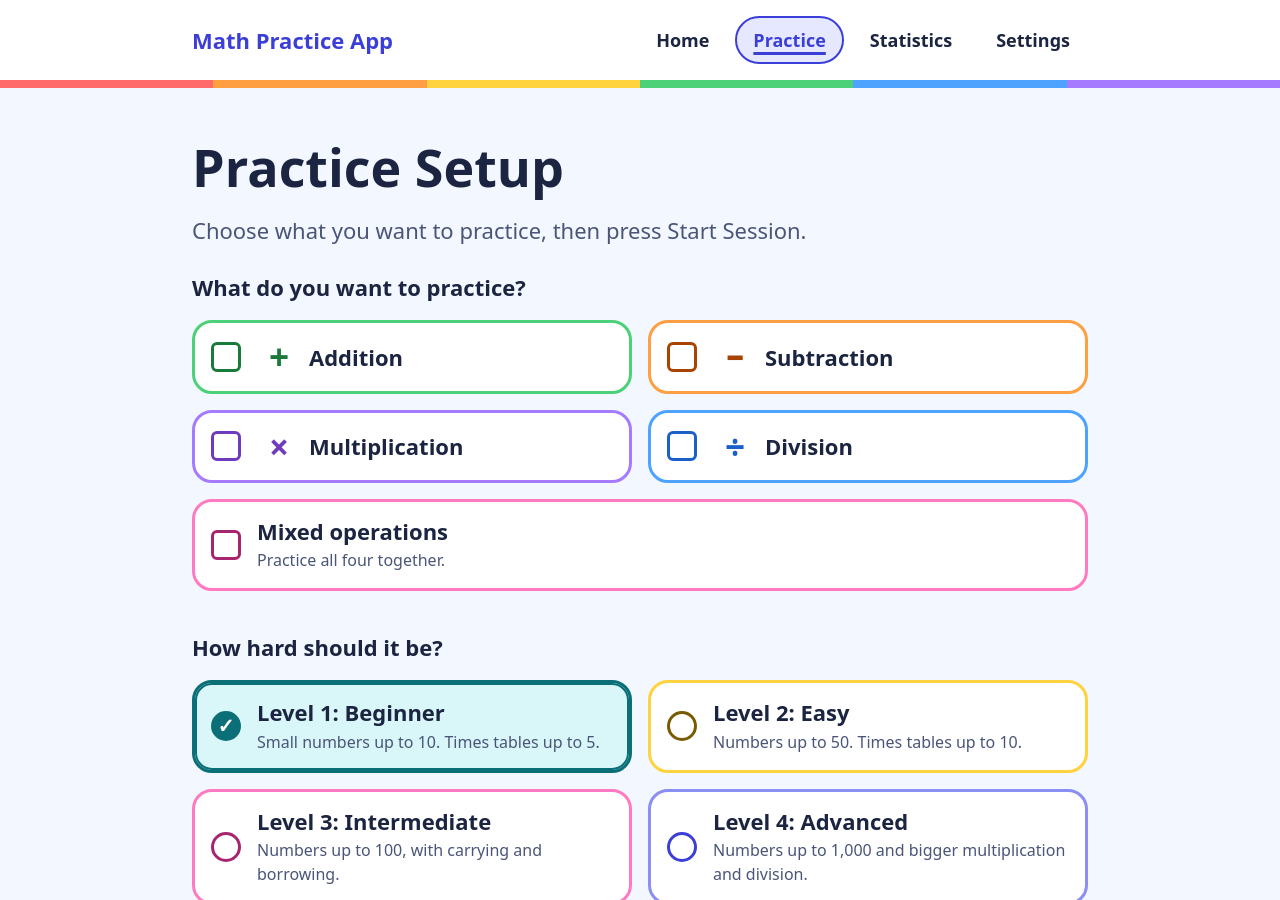
PracticeSetupPage › Start Session button › is disabled again if the last operation is deselected
Click the checkbox labelled "Addition" at (412, 357), box [192,320,632,394]
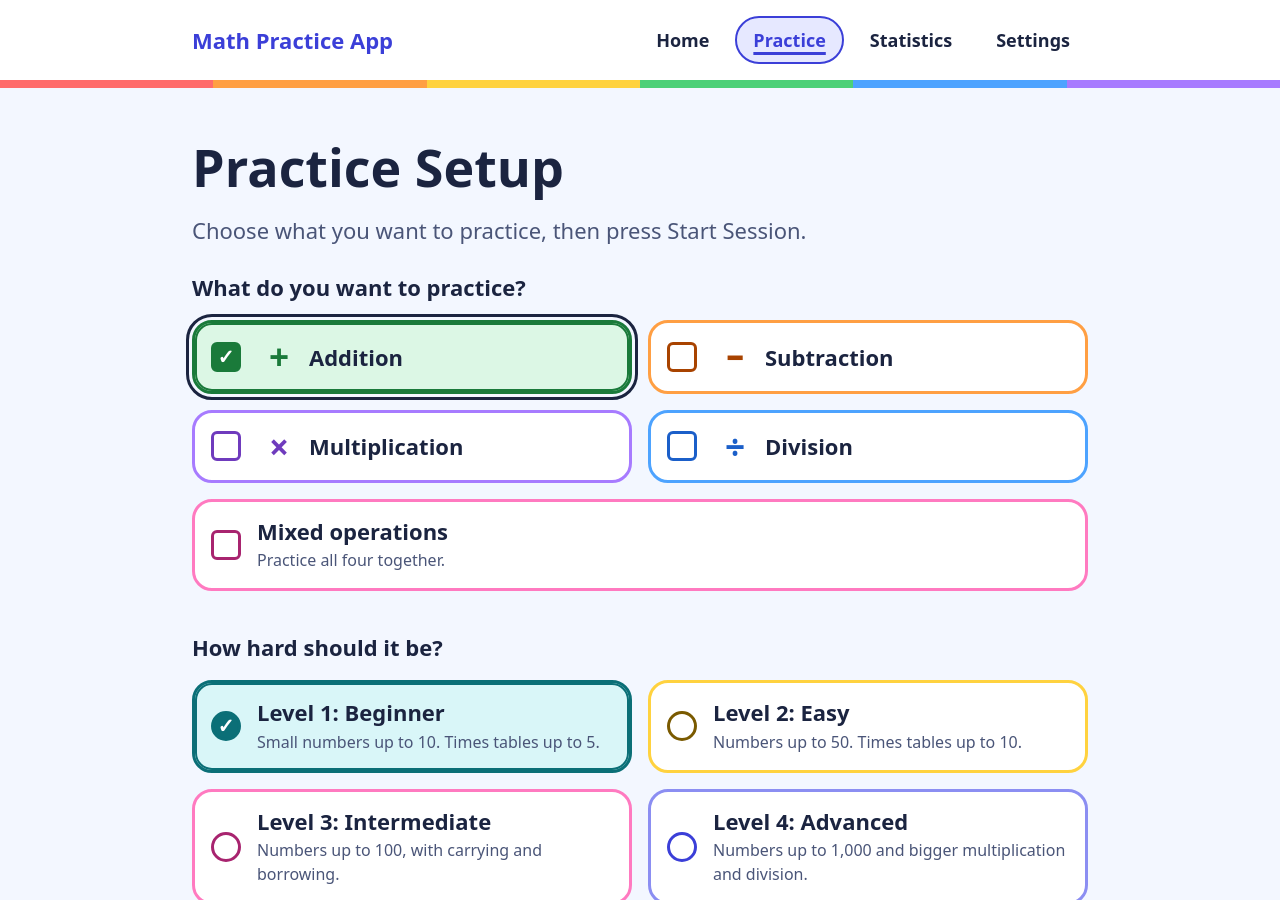
Click the radio button labelled "Level 1: Beginner" at (412, 726), box [192,680,632,773]
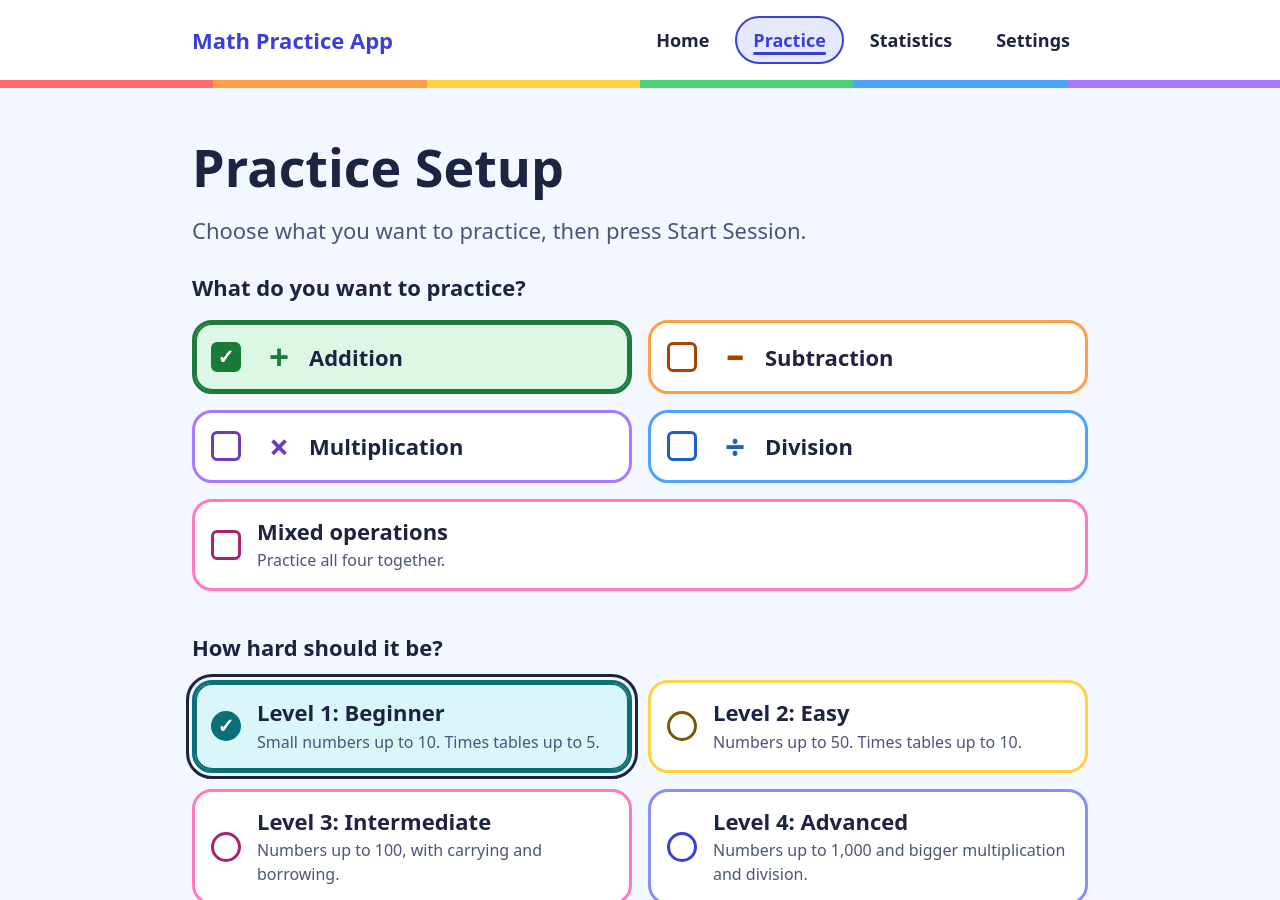
Click the checkbox labelled "Addition" at (412, 357), box [192,320,632,394]
(page scrolled)
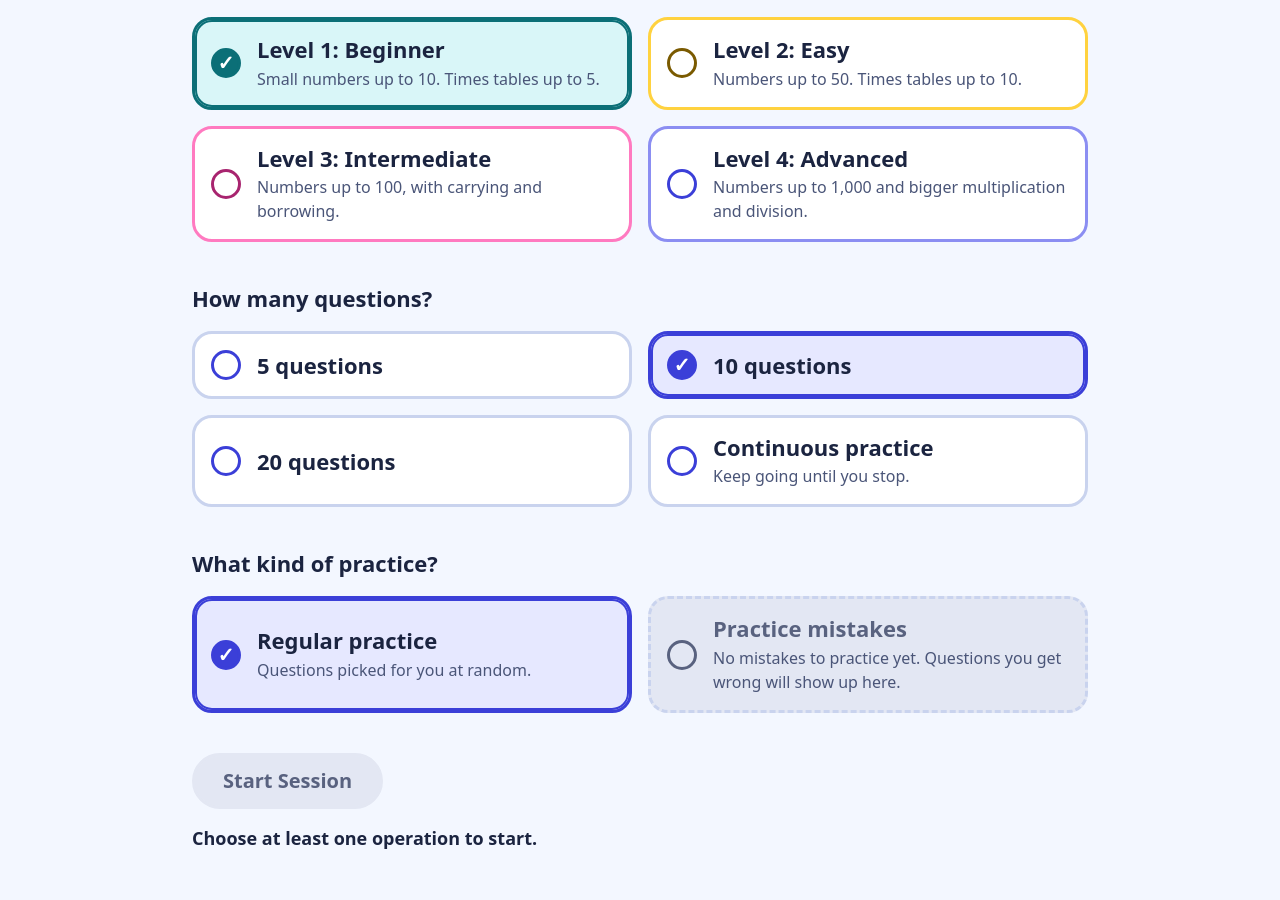
Now the button "Start Session" is disabled, box [192,753,383,809]
